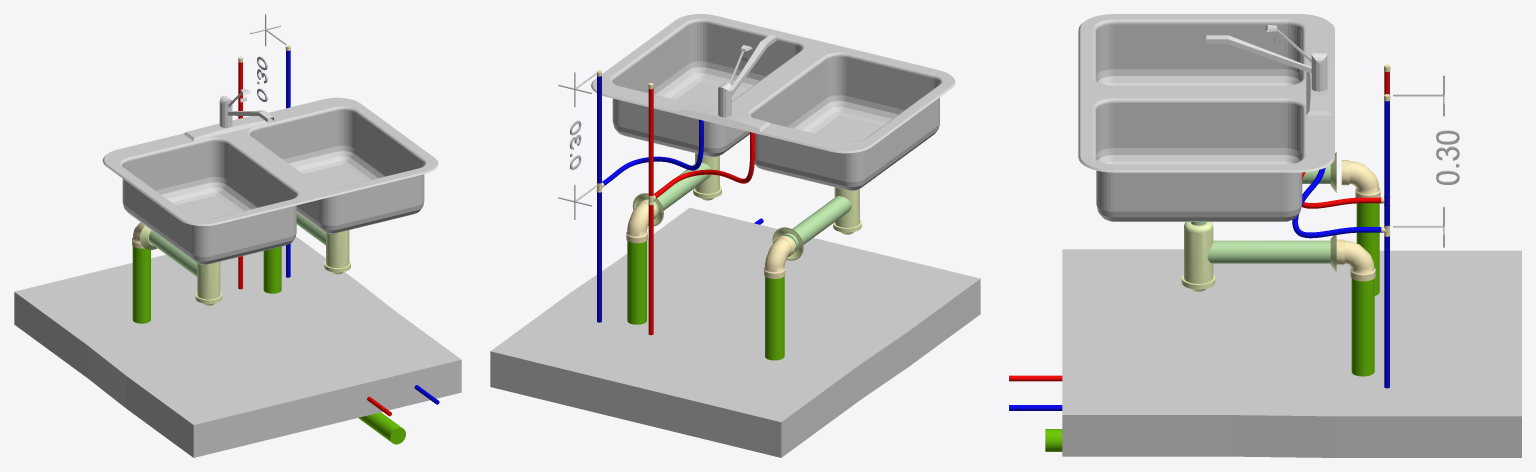
File: lavaplatos.glb
3 views of the same model, side by side, from view 1: azimuth 30°, elevation 25°; view 2: azimuth 150°, elevation 25°; view 3: azimuth 270°, elevation 25° (orthographic). The views are drawn at different scales.
Visible parts, largest first — view 1: Geom3D (×15); view 2: Geom3D (×23); view 3: Geom3D (×22).
Boxes of the visible parts, left/top/right/bottom form: Geom3D (×15): left=14, top=88, right=461, bottom=457; Geom3D (×23): left=490, top=14, right=980, bottom=457; Geom3D (×22): left=1062, top=14, right=1521, bottom=457.
Bounding box in the file's own units: 0.8602 × 0.9414 × 1.12.
